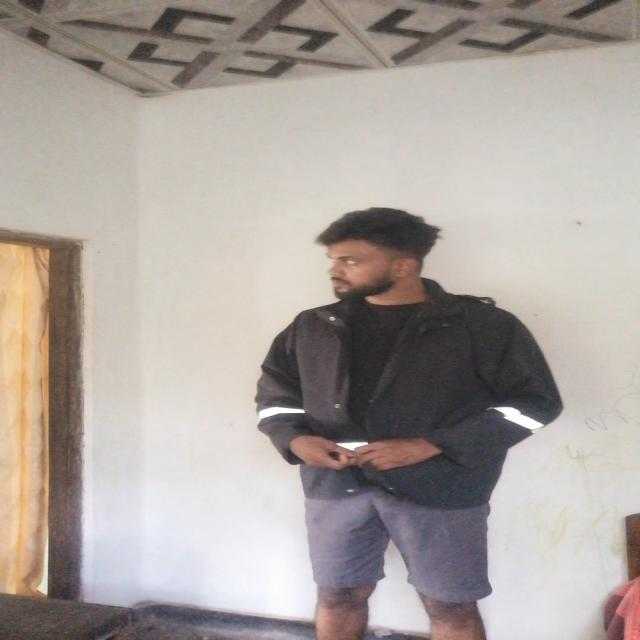Jacket_Wearer: (251, 278, 557, 512)
